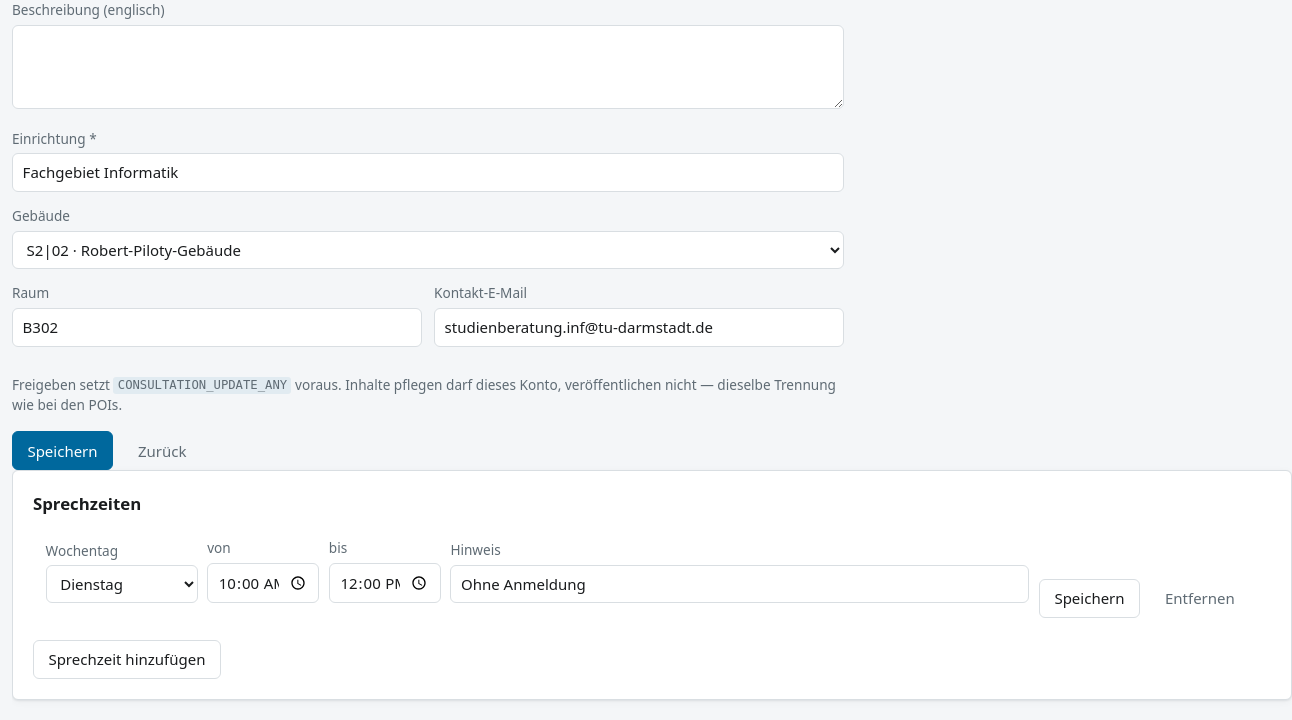
Test: eine geänderte Sprechzeit wird als ungespeichert markiert
(page scrolled)
Replace the text in the time field with id "field-start-11" with "11:00". click: (263, 583)
box: [207,562,319,603]
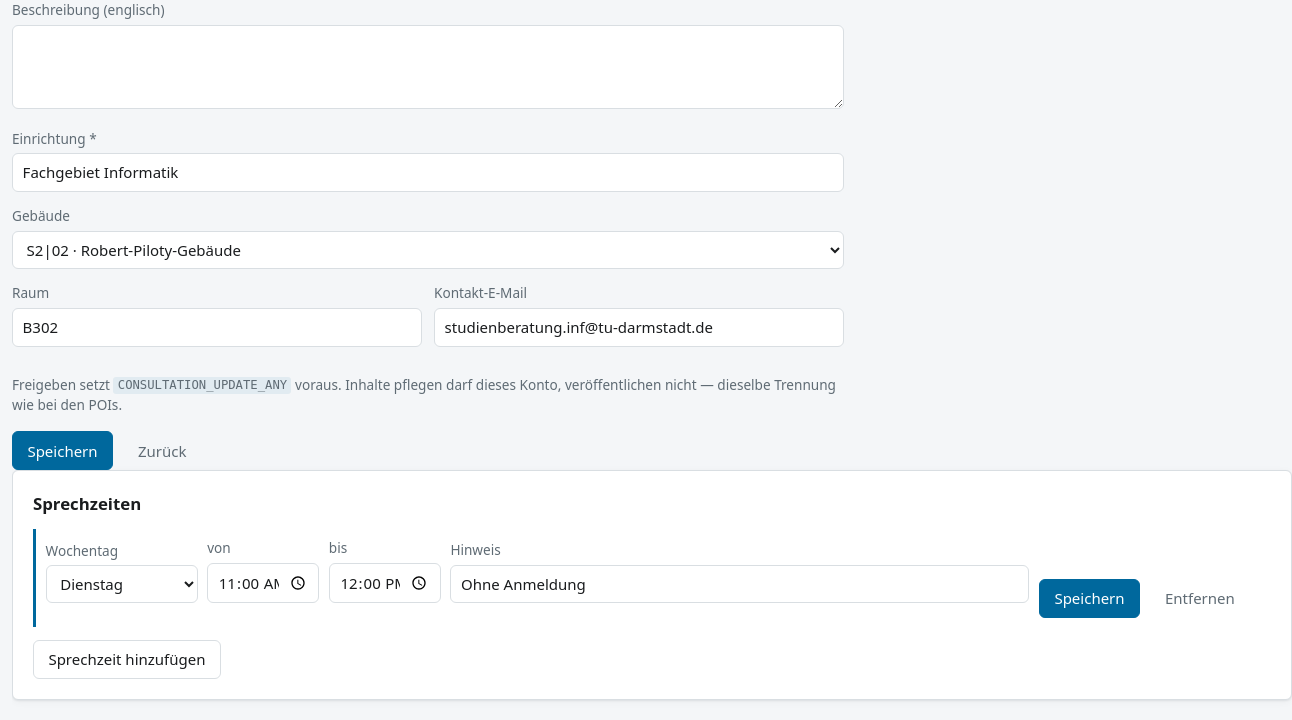
Expected: the 2nd button with class "button--primary" reads "Speichern", [1039,579,1140,618]
Now the element with class "slots__row--dirty" is shown, box [33,528,1271,627]
